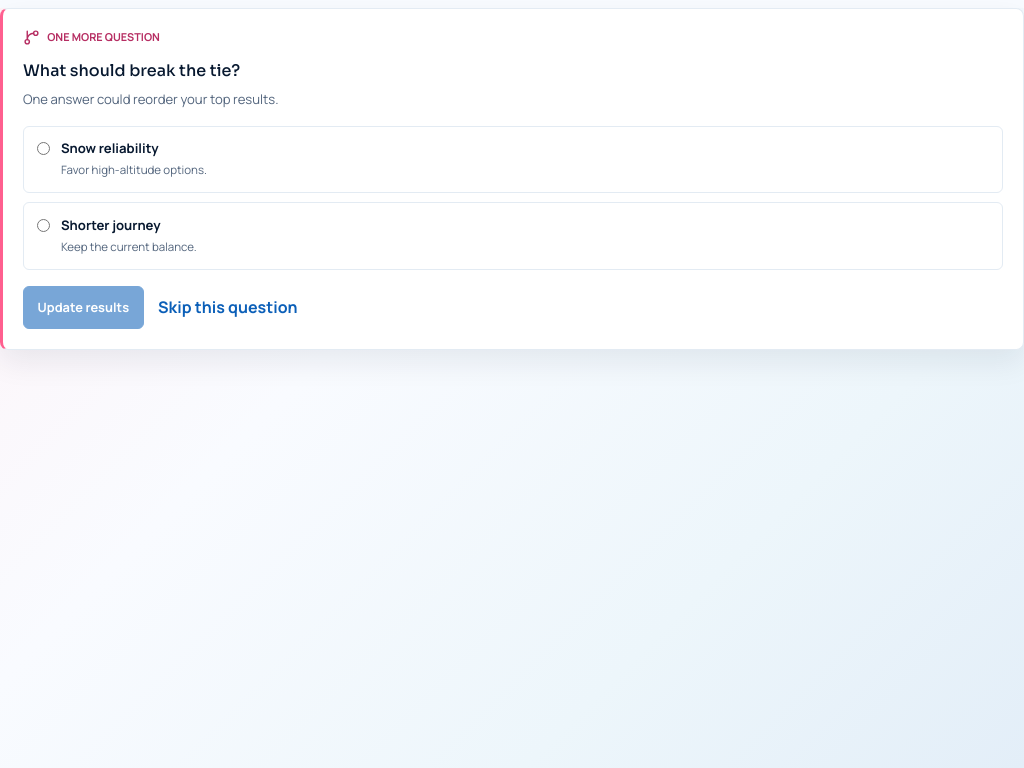
uses Continue only when the selected answer leaves intent unchanged
Click the radio button labelled "Snow reliability Favor high-altitude options.": x=43, y=149 [37,142,50,155]
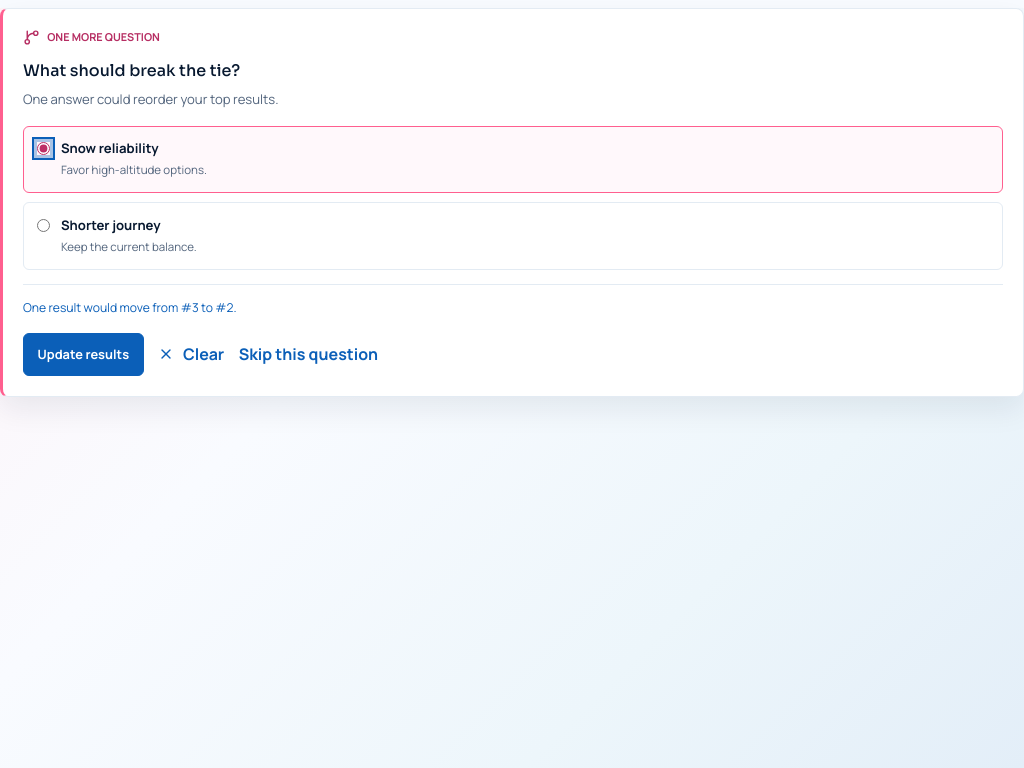
expect the button "Update results" is shown: met, box [23,333,144,376]
Click the radio button labelled "Shorter journey Keep the current balance.": x=43, y=226 [37,219,50,232]
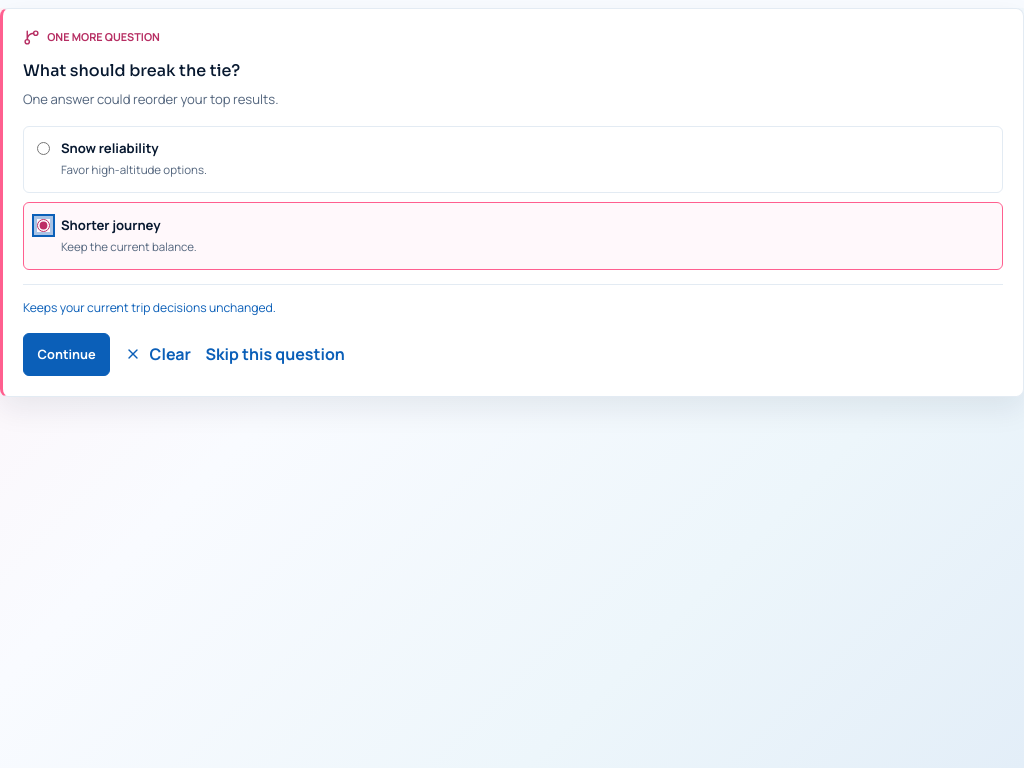
expect the button "Continue" is shown: met, box [23,333,110,376]
